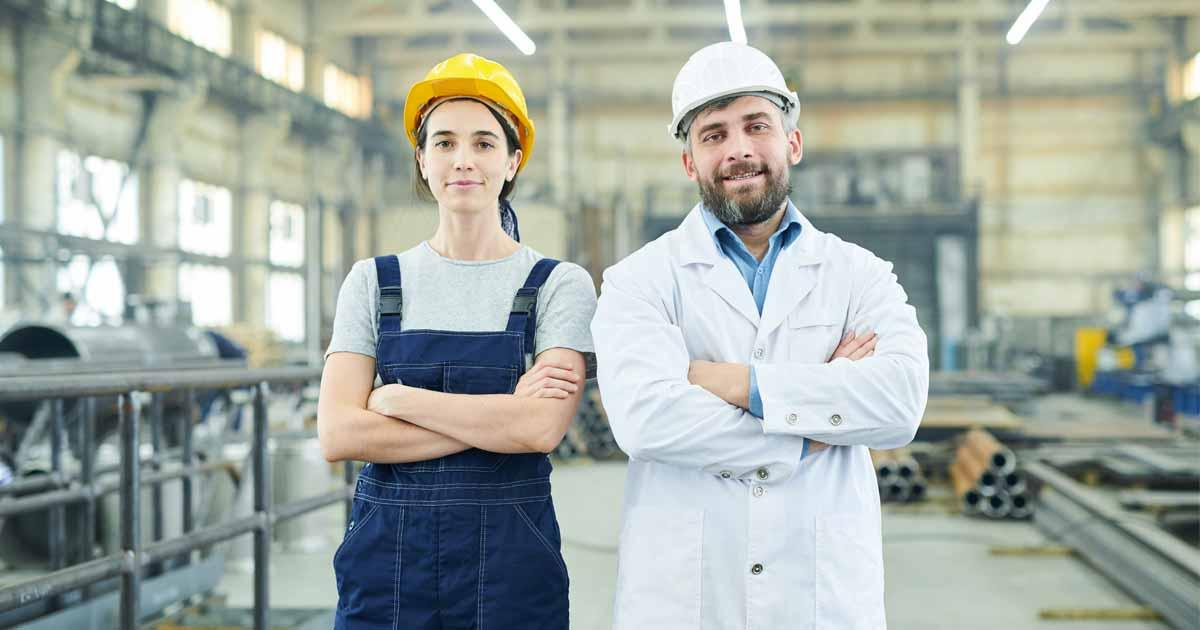helmet: (401, 51, 534, 164), (664, 41, 802, 143)
